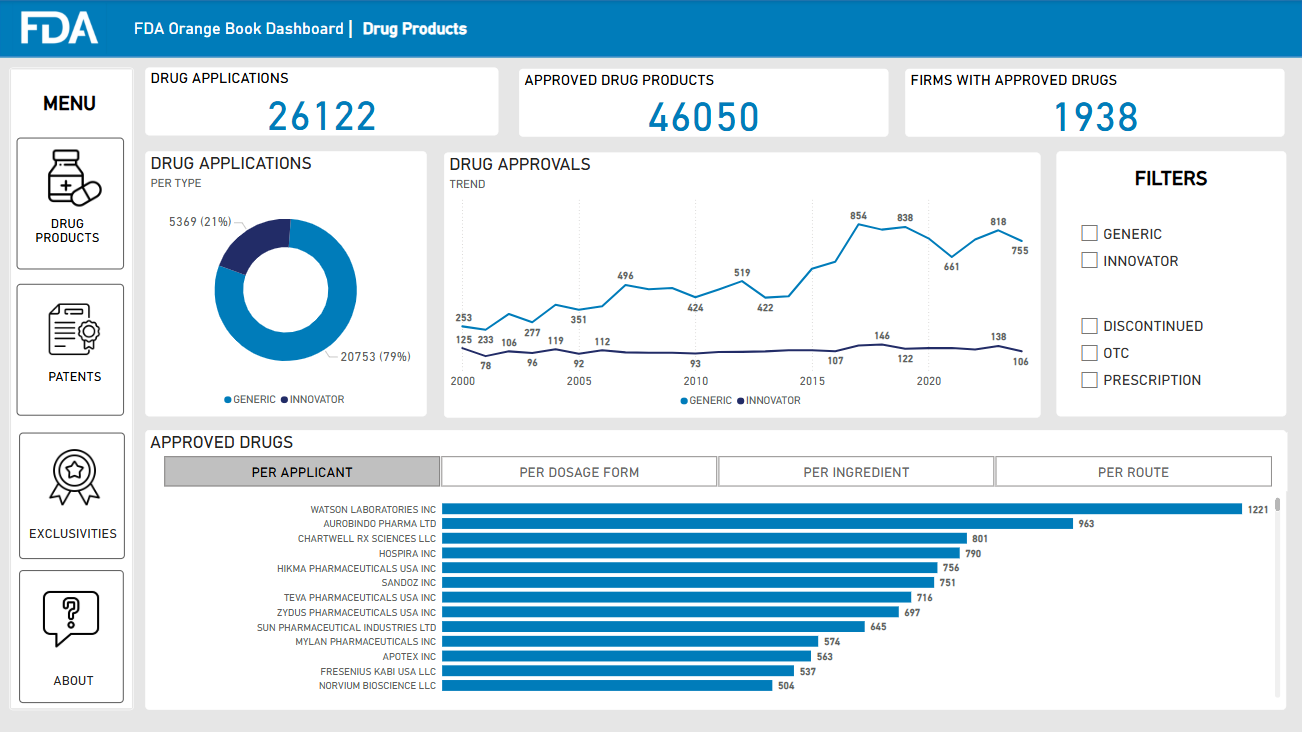

Layout of this report page (visuals, bound fields, positions):
{"tool":"powerbi","page":{"name":"Drug Products","canvas":[1920,1080],"ordinal":0},"visuals":[{"type":"shape","box":[14,100,184,946],"z":0},{"type":"shape","box":[216,634,1680,412],"z":1000},{"type":"shape","box":[1557.1,222.7,338.7,390.2],"z":2000},{"type":"clusteredBarChart","title":"APPROVED DRUG PRODUCTS PER APPLICANT","fields":{"Category":["Products.Applicant_Full_Name"],"Y":["MyMeasures.Total_Drugs"]},"box":[222.7,719.6,1669.3,312.9],"z":3000},{"type":"image","box":[62,216,98,94],"z":4000},{"type":"textbox","box":[4,312,194,66],"z":5000},{"type":"textbox","box":[24,770,170,50],"z":6000},{"type":"textbox","box":[36.4,130,134,44],"z":7000},{"type":"card","title":"DRUG APPLICATIONS","fields":{"Values":["MyMeasures.Total_Applications"]},"box":[216,100,520,100],"z":8000},{"type":"card","title":"APPROVED DRUG PRODUCTS","fields":{"Values":["Medidas.Total_Drugs"]},"box":[766,102,544,100],"z":9000},{"type":"card","title":"FIRMS WITH APPROVED DRUGS","fields":{"Values":["Medidas.Total_Firms_With_FDA_Approved_Drugs"]},"box":[1334,102,558,100],"z":10000},{"type":"donutChart","title":"DRUG APPLICATIONS","fields":{"Category":["Products.Appl_Type"],"Y":["Medidas.Total_Applications"]},"box":[216,222,414,390],"z":11000},{"type":"lineChart","title":"DRUG APPROVALS","fields":{"Y":["MyMeasures.Total_Applications"],"Series":["Products.Appl_Type"],"Category":["Calendar_Table.Year","Calendar_Table.Quarter","Calendar_Table.Month Name Short"]},"box":[656,224,878,390],"z":12000},{"type":"slicer","title":"FILTER BY APPLICATION TYPE","fields":{"Values":["Products.Appl_Type"]},"box":[1580.5,319.1,281.8,117.6],"z":13000},{"type":"slicer","title":"DRUG PRODUCT","fields":{"Values":["Products.Type"]},"box":[1580.5,455.3,281.8,156.7],"z":14000},{"type":"textbox","box":[1640.2,240.7,171.7,46.6],"z":15000},{"type":"actionButton","box":[1838,0,54.1,54.1],"z":16000},{"type":"slicer","title":"APPROVED DRUGS","fields":{"Values":["Parameter_1.Parameter_1"]},"box":[217.2,636.8,1680.4,86.5],"z":17000},{"type":"shape","box":[26,202,158,194],"z":18000},{"type":"shape","box":[0,0,1919.6,84.7],"z":19000},{"type":"shape","box":[26,418,158,194],"z":20000},{"type":"shape","box":[30,636,156,186],"z":21000},{"type":"shape","box":[30,840,154,196],"z":22000},{"type":"textbox","box":[194,14,1198,56],"z":23000},{"type":"image","box":[0,0,178,84],"z":24000},{"type":"image","box":[68,438,86,94],"z":25000},{"type":"textbox","box":[14,540,194,50],"z":26000},{"type":"image","box":[64,656,94,94],"z":27000},{"type":"image","box":[50,858,112,108],"z":28000},{"type":"textbox","box":[26,986,168,50],"z":29000},{"type":"pageNavigator","box":[14.7,202.5,184.1,842.9],"z":30000}]}

Visuals, with their boxes in screenshot pixels (x1, y1, x2, y2), scaled from the page's 1920x1080 canvas onto the 1302x732 screenshot:
shape: 9, 68, 134, 709
shape: 146, 430, 1286, 709
shape: 1056, 151, 1286, 415
"APPROVED DRUG PRODUCTS PER APPLICANT" clusteredBarChart: 151, 488, 1283, 700
image: 42, 146, 108, 210
textbox: 3, 211, 134, 256
textbox: 16, 522, 132, 556
textbox: 25, 88, 116, 118
"DRUG APPLICATIONS" card: 146, 68, 499, 136
"APPROVED DRUG PRODUCTS" card: 519, 69, 888, 137
"FIRMS WITH APPROVED DRUGS" card: 905, 69, 1283, 137
"DRUG APPLICATIONS" donutChart: 146, 150, 427, 415
"DRUG APPROVALS" lineChart: 445, 152, 1040, 416
"FILTER BY APPLICATION TYPE" slicer: 1072, 216, 1263, 296
"DRUG PRODUCT" slicer: 1072, 309, 1263, 415
textbox: 1112, 163, 1229, 195
actionButton: 1246, 0, 1283, 37
"APPROVED DRUGS" slicer: 147, 432, 1287, 490
shape: 18, 137, 125, 268
shape: 0, 0, 1301, 57
shape: 18, 283, 125, 415
shape: 20, 431, 126, 557
shape: 20, 569, 125, 702
textbox: 132, 9, 944, 47
image: 0, 0, 121, 57
image: 46, 297, 104, 361
textbox: 9, 366, 141, 400
image: 43, 445, 107, 508
image: 34, 582, 110, 655
textbox: 18, 668, 132, 702
pageNavigator: 10, 137, 135, 709
